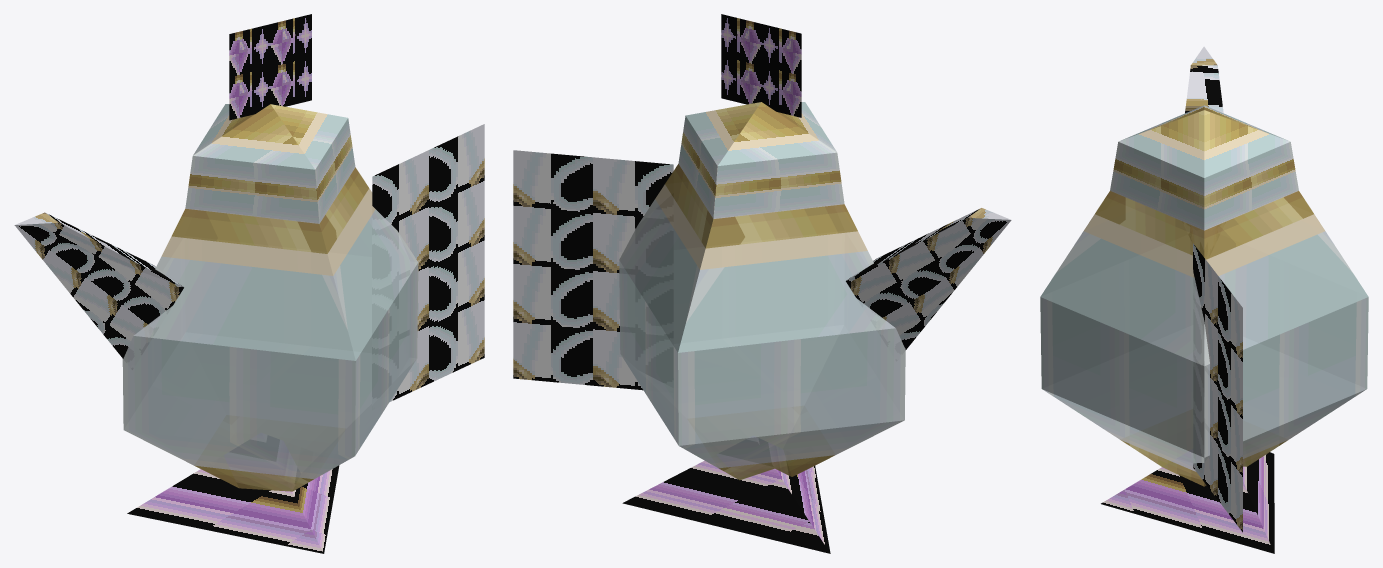
The model's file is 5351ucc_pot.gltf.
The picture shows the model from 3 angles, left to right: view 1: azimuth 30°, elevation 25°; view 2: azimuth 150°, elevation 25°; view 3: azimuth 270°, elevation 25°; orthographic projection. The views are drawn at different scales.
Parts seen in each view (by area): view 1: 5351ucc_pot; view 2: 5351ucc_pot; view 3: 5351ucc_pot.
Boxes of the visible parts, box(x1,y1,x2,y2) form: 5351ucc_pot: box(14, 14, 484, 553); 5351ucc_pot: box(513, 14, 1011, 553); 5351ucc_pot: box(1040, 46, 1368, 553).
Bounding box in the file's own units: 0.7427 × 0.7095 × 0.4485.
4 materials, 4 textured.
